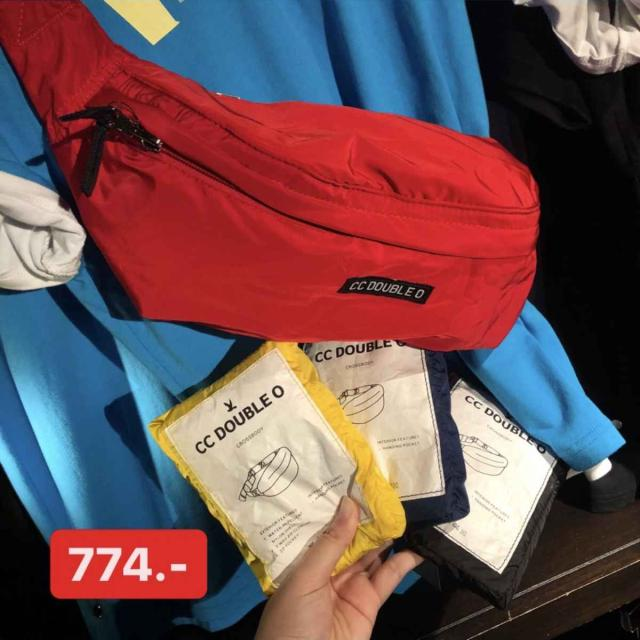Handbag: (10, 4, 539, 351)
